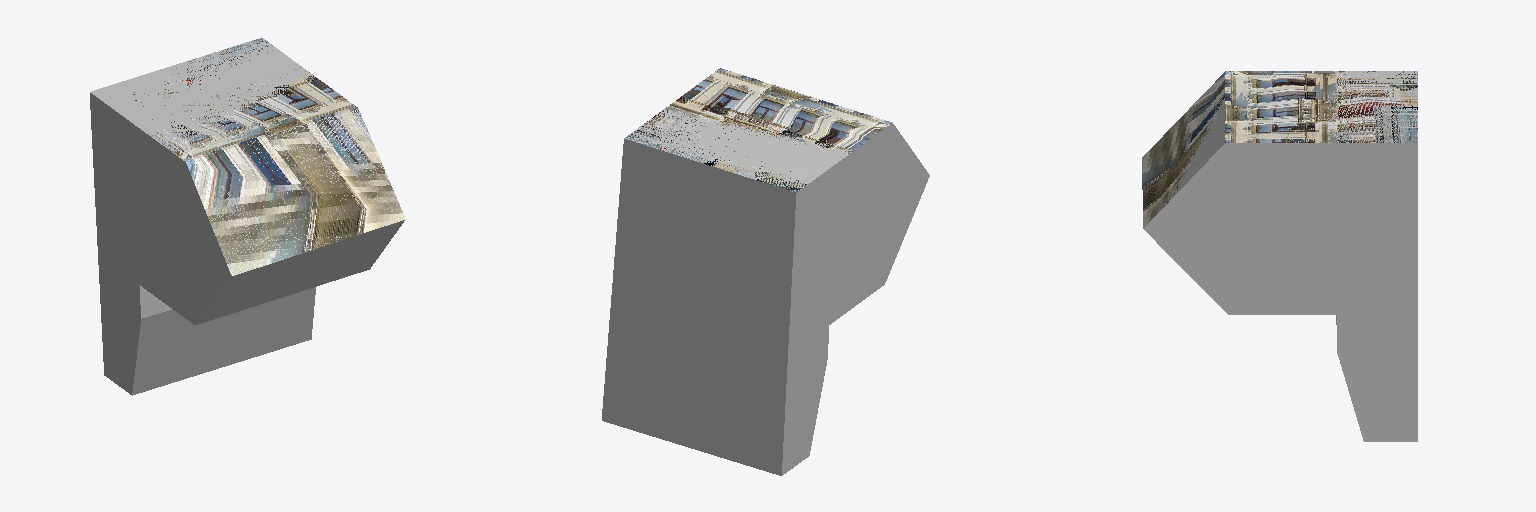
3 renders of one model, left to right at view 1: azimuth 30°, elevation 25°; view 2: azimuth 150°, elevation 25°; view 3: azimuth 270°, elevation 25°, orthographic.
Parts seen in each view (by area): view 1: Building, Facade; view 2: Building, Facade; view 3: Building, Facade.
Part boxes in pixels (x1,y1,x2,y2): Building: (90, 38, 404, 395); Facade: (133, 38, 405, 275); Building: (602, 70, 929, 475); Facade: (625, 68, 892, 192); Building: (1142, 71, 1417, 441); Facade: (1142, 71, 1417, 228).
Bounding box in the file's own units: 11.83 × 17.36 × 14.51.
1 materials, 1 textured.